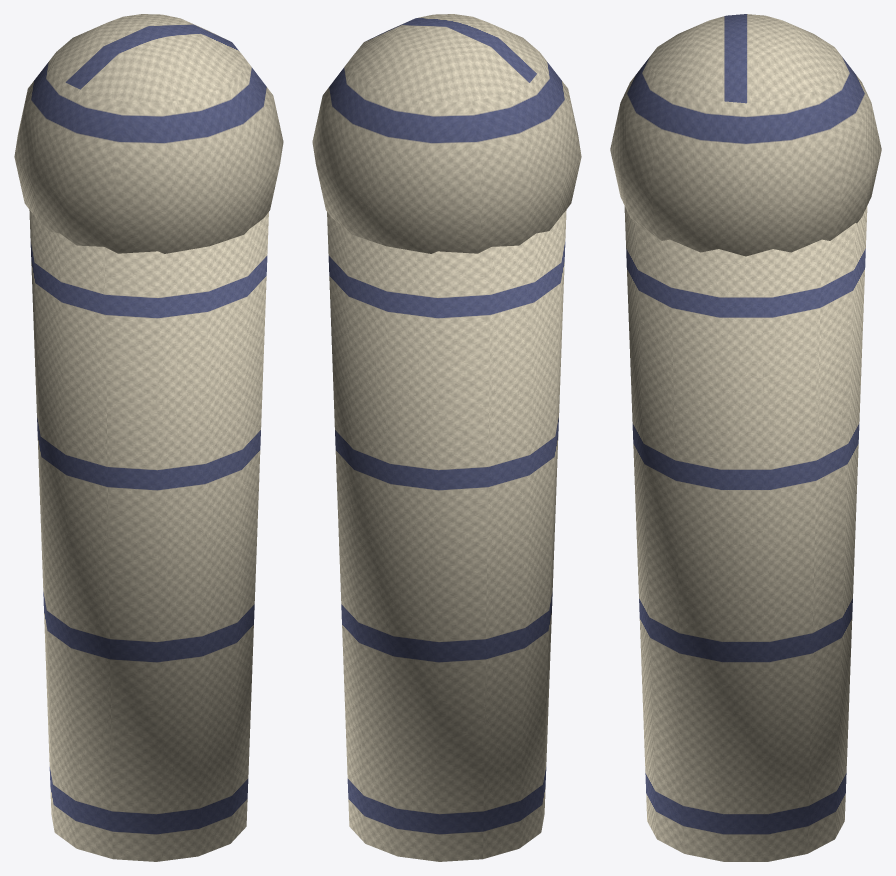
File: brazo.obj
3 renders of one model, left to right at view 1: azimuth 30°, elevation 25°; view 2: azimuth 150°, elevation 25°; view 3: azimuth 270°, elevation 25°, orthographic.
Visible parts, largest first — view 1: brazo; view 2: brazo; view 3: brazo.
Boxes of the visible parts, left/top/right/bottom form: brazo: left=14, top=14, right=283, bottom=861; brazo: left=312, top=14, right=581, bottom=861; brazo: left=610, top=14, right=881, bottom=861.
Bounding box in the file's own units: 0.11 × 0.355 × 0.11.
Materials: 1 (1 with a texture image).
